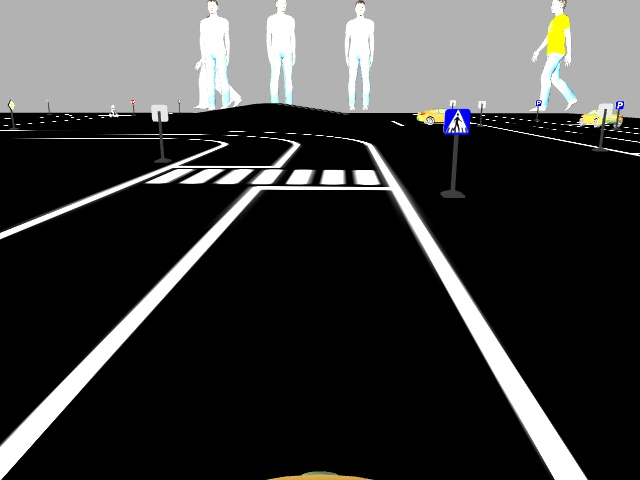Crosswalk: (442, 107, 469, 135)
Parking: (613, 99, 624, 109)
